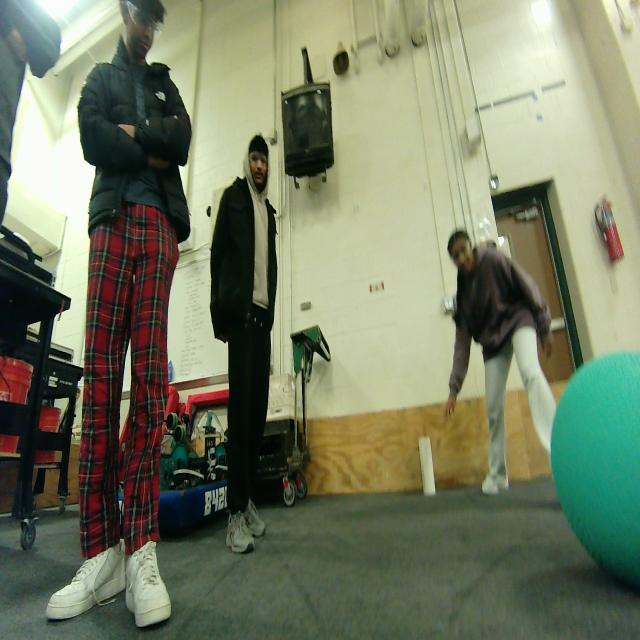algae: (551, 352, 640, 590)
coral: (418, 437, 436, 495)
